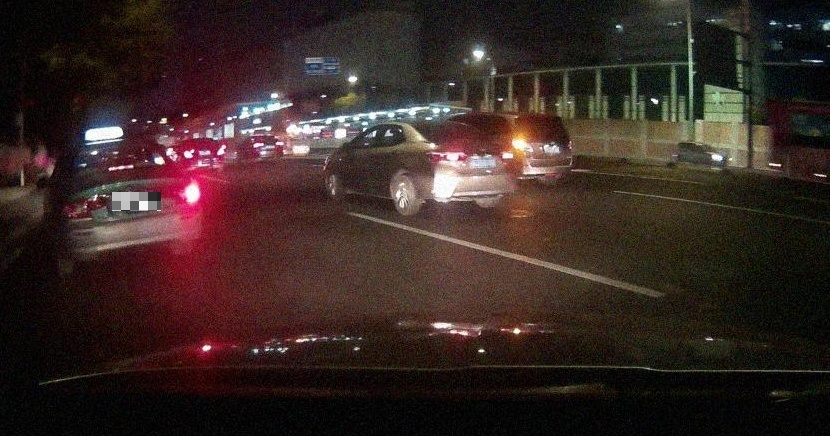L_light: (60, 194, 109, 219), (162, 182, 201, 204), (428, 148, 467, 163)
R_light: (496, 150, 516, 163), (108, 164, 133, 171)
T_light: (441, 124, 455, 127)
day-no: (57, 137, 203, 277)
night-no: (404, 120, 517, 215)
plate_1: (112, 192, 161, 211)
